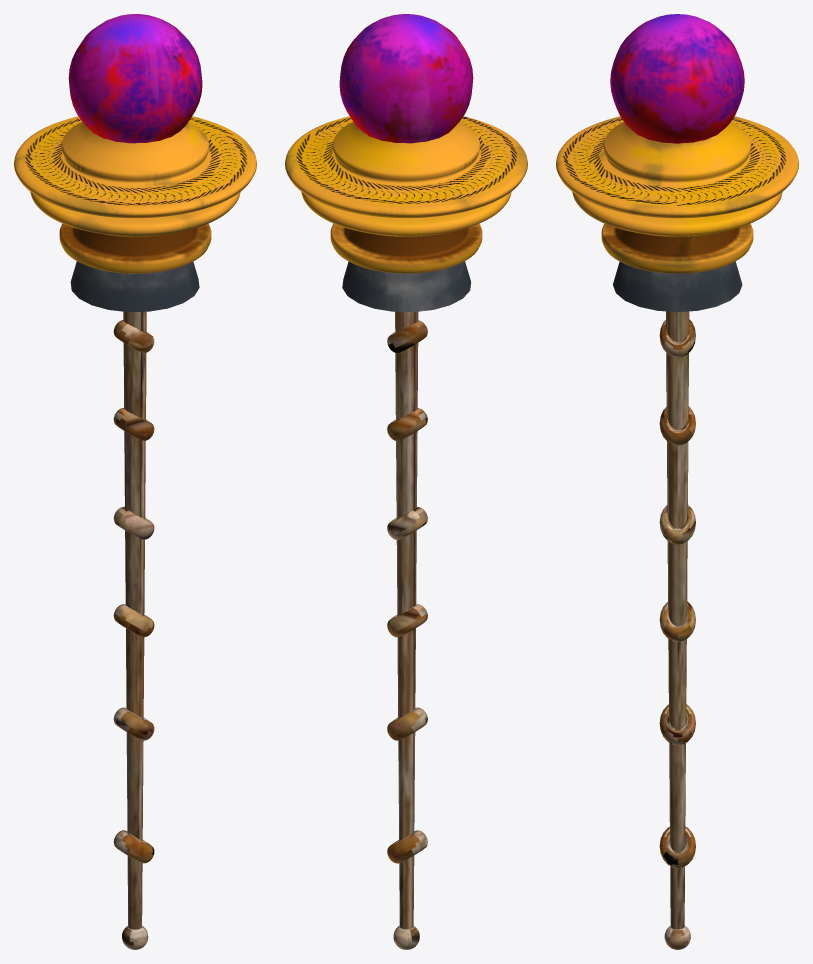
The model's file is baculo.obj.
3 views of the same model, side by side, from view 1: azimuth 30°, elevation 25°; view 2: azimuth 150°, elevation 25°; view 3: azimuth 270°, elevation 25° (orthographic).
Visible parts, largest first — view 1: pTorus3; view 2: pTorus3; view 3: pTorus3.
Boxes of the visible parts, x1,y1,x2,y2 form: pTorus3: [14, 14, 256, 949]; pTorus3: [285, 14, 527, 949]; pTorus3: [556, 14, 798, 949].
Size of the model in its own units: 1.04 by 4.38 by 1.04.
